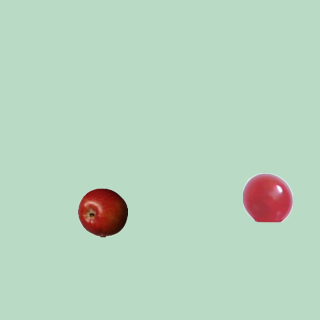Apple Braeburn: (77, 187, 127, 237)
Redcurrant: (242, 172, 292, 222)
